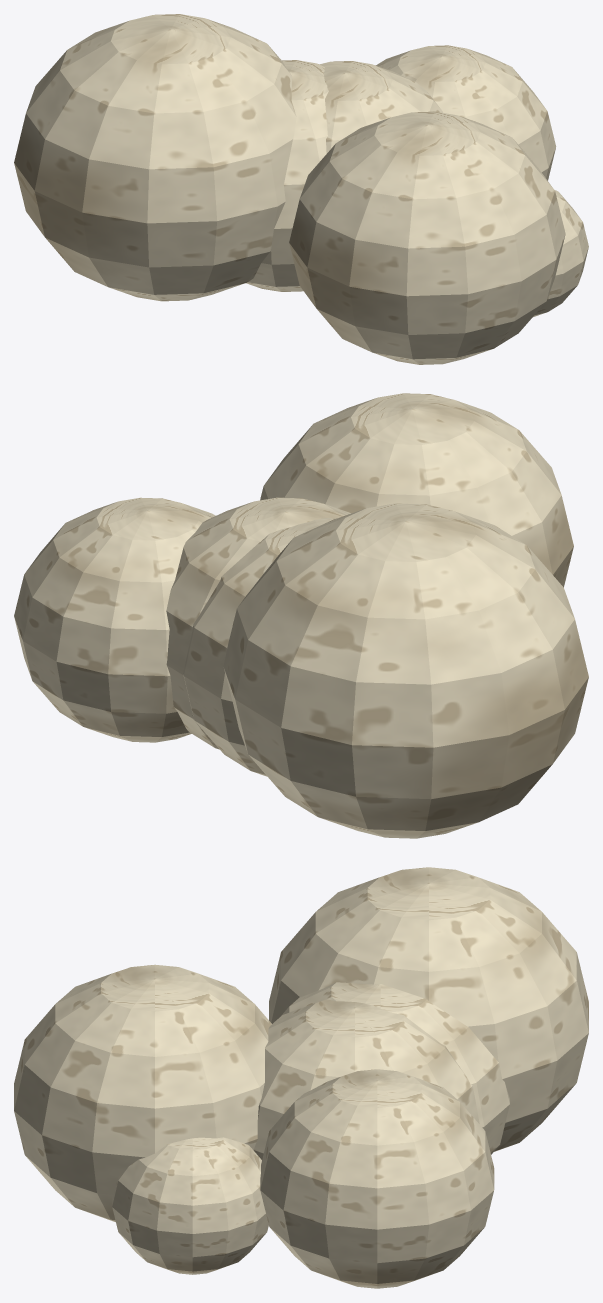
File: puffball_cluster_v1.glb
3 views of the same model, one above another, from view 1: azimuth 30°, elevation 25°; view 2: azimuth 150°, elevation 25°; view 3: azimuth 270°, elevation 25° (orthographic). The views are drawn at different scales.
Parts seen in each view (by area): view 1: puffball_cluster_v1; view 2: puffball_cluster_v1; view 3: puffball_cluster_v1.
Boxes of the visible parts, x1=… form: puffball_cluster_v1: x1=14, y1=14, x2=588, y2=364; puffball_cluster_v1: x1=14, y1=393, x2=588, y2=838; puffball_cluster_v1: x1=14, y1=867, x2=588, y2=1288.
Bounding box in the file's own units: 0.2111 × 0.1074 × 0.209.
1 material, 1 textured.
